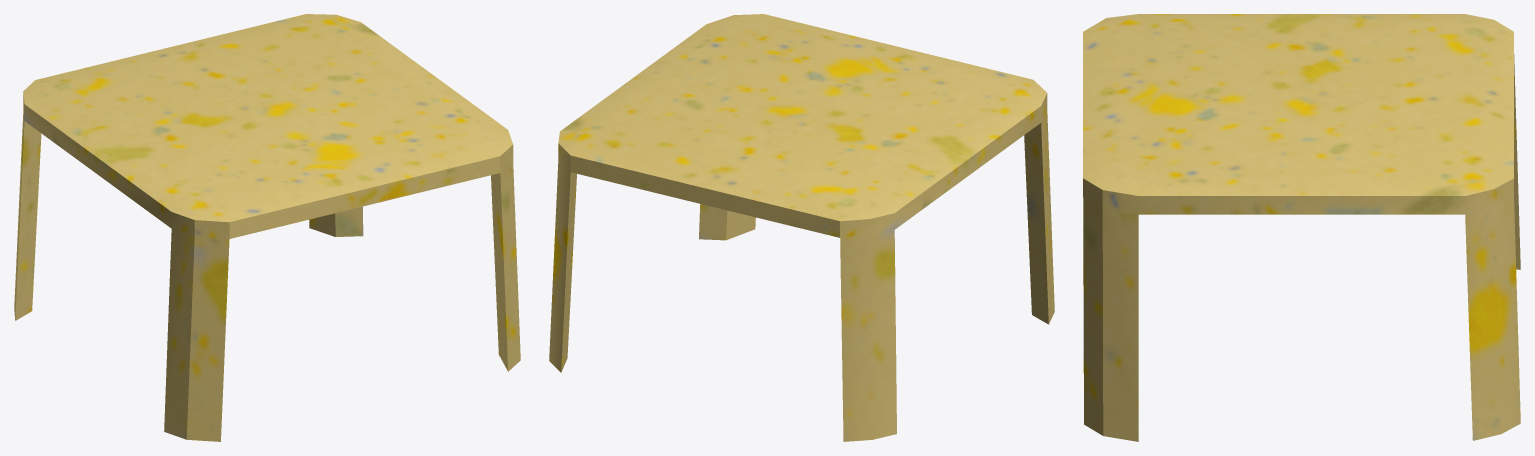
The model's file is Plastic_Table_2.fbx.
3 renders of one model, left to right at view 1: azimuth 30°, elevation 25°; view 2: azimuth 150°, elevation 25°; view 3: azimuth 270°, elevation 25°, orthographic. The views are drawn at different scales.
Parts seen in each view (by area): view 1: plasticTable_2; view 2: plasticTable_2; view 3: plasticTable_2.
Part boxes in pixels (x1,y1,x2,y2): plasticTable_2: (14, 14, 520, 441); plasticTable_2: (549, 14, 1054, 441); plasticTable_2: (1083, 14, 1520, 441).
Size of the model in its own units: 159 by 95.97 by 154.
